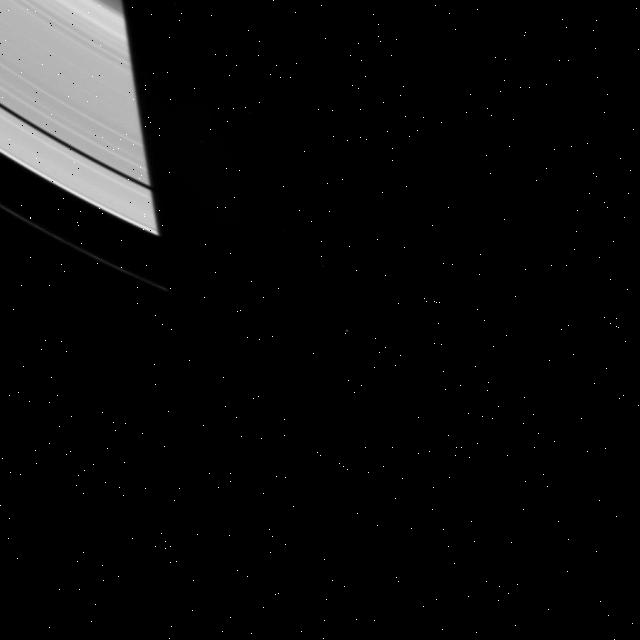Saturn: (0, 0, 176, 298)
